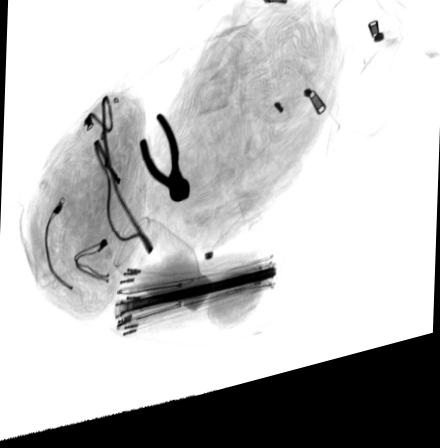Pliers: (139, 120, 190, 212)
